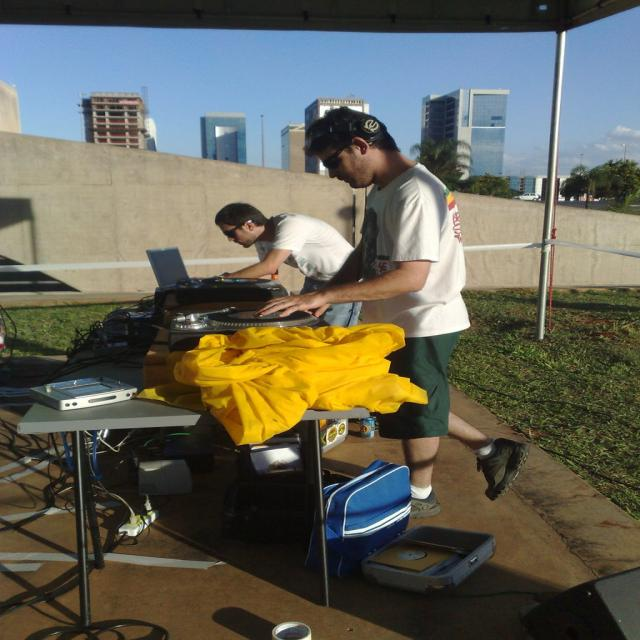desk: (21, 362, 368, 627)
laptop: (145, 246, 213, 289)
person: (248, 106, 530, 516), (214, 202, 359, 297)
